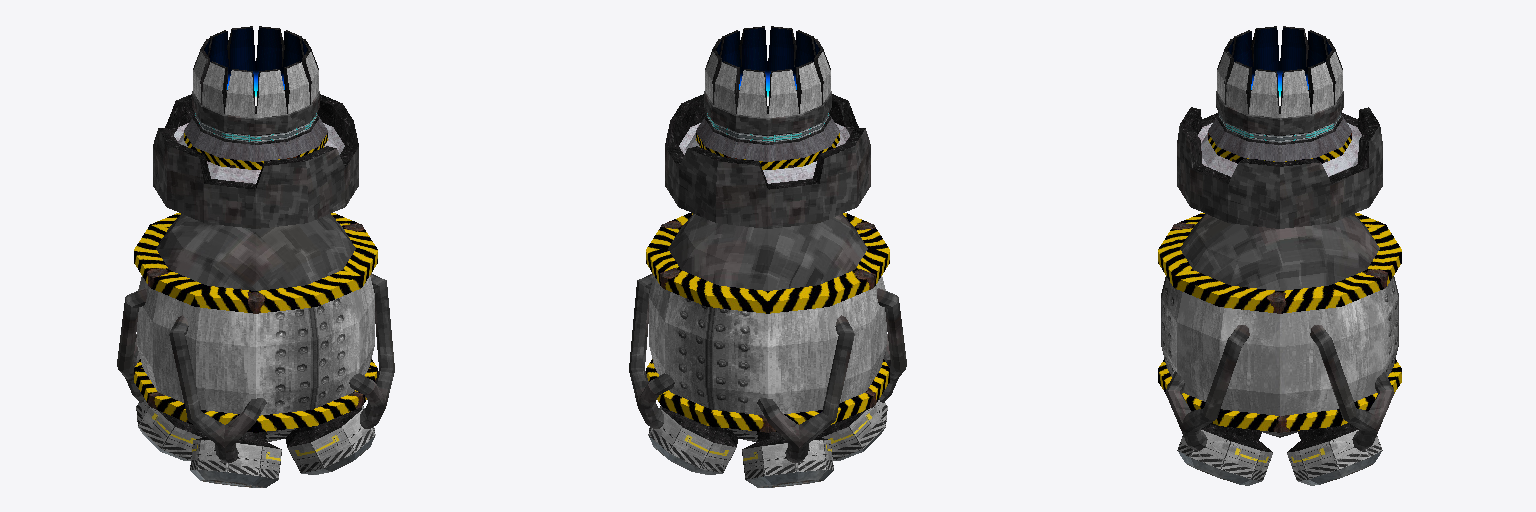
3 renders of one model, left to right at view 1: azimuth 30°, elevation 25°; view 2: azimuth 150°, elevation 25°; view 3: azimuth 270°, elevation 25°, orthographic.
Parts seen in each view (by area): view 1: thrusterSmall.001_Cylinder.009; view 2: thrusterSmall.001_Cylinder.009; view 3: thrusterSmall.001_Cylinder.009.
Boxes of the visible parts, box(x1,y1,x2,y2) form: thrusterSmall.001_Cylinder.009: box(117, 26, 394, 487); thrusterSmall.001_Cylinder.009: box(629, 26, 906, 487); thrusterSmall.001_Cylinder.009: box(1158, 26, 1401, 485).
Size of the model in its own units: 0.7142 by 1.3 by 0.7002.
Materials: 2 (1 with a texture image).